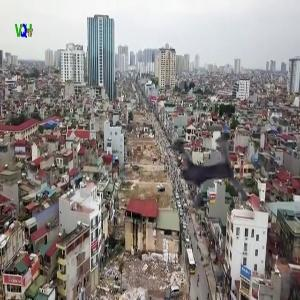drone: (146, 116, 263, 233)
